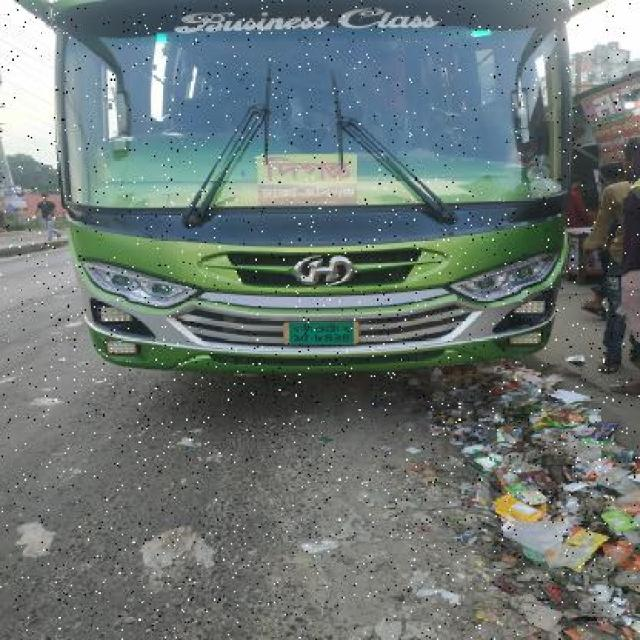numberplate: (281, 317, 357, 346)
